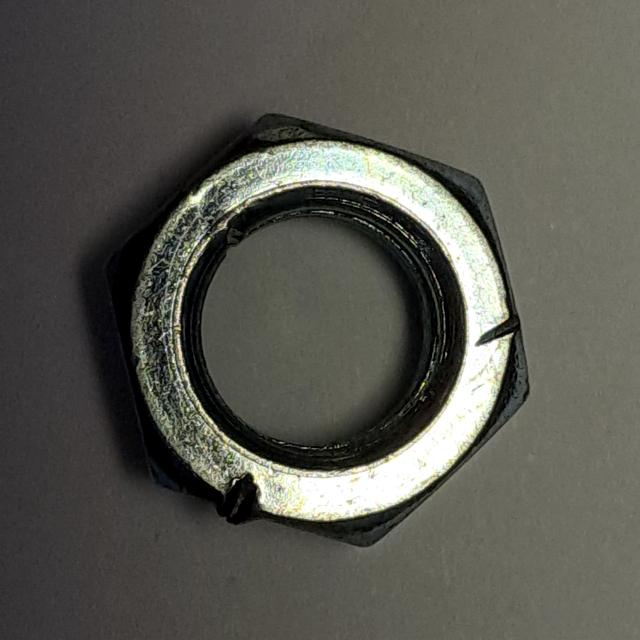Scratches: (89, 107, 552, 558)
